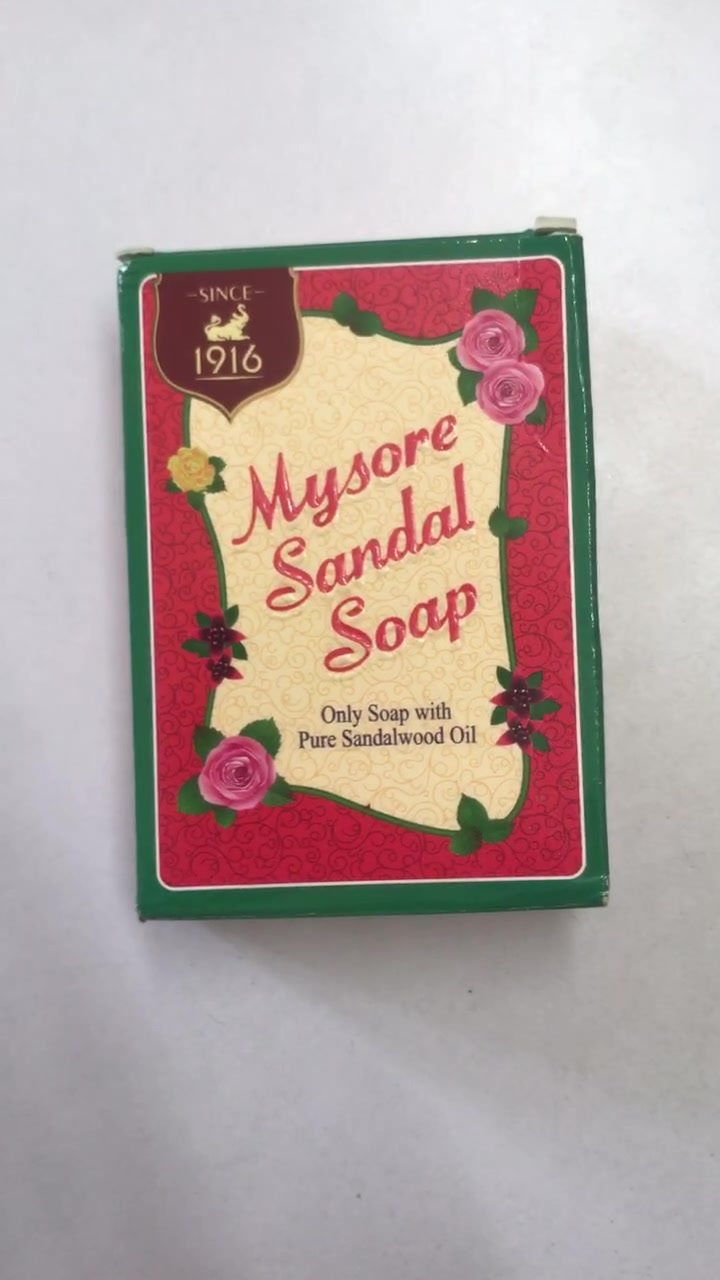mysore sandal soap: (126, 241, 596, 912)
